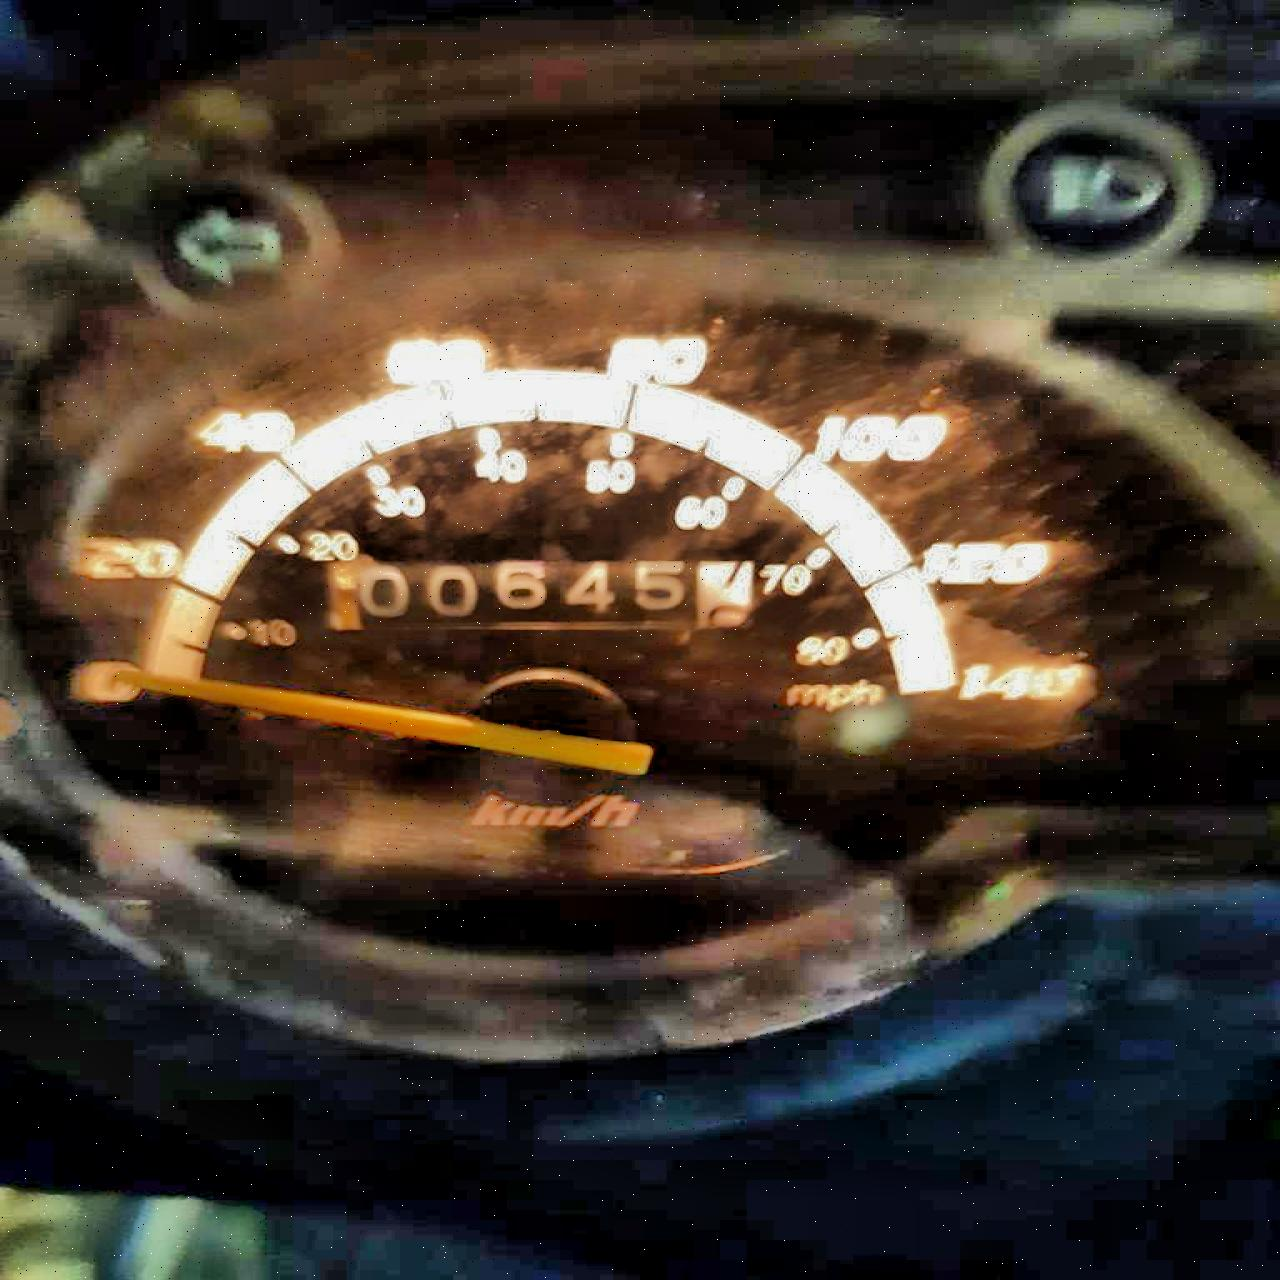0: (422, 564, 482, 621), (356, 561, 415, 619)
4: (564, 558, 619, 613)
5: (629, 558, 688, 613)
6: (493, 558, 553, 613)
7: (707, 553, 750, 597)
odometer: (308, 554, 760, 634)
